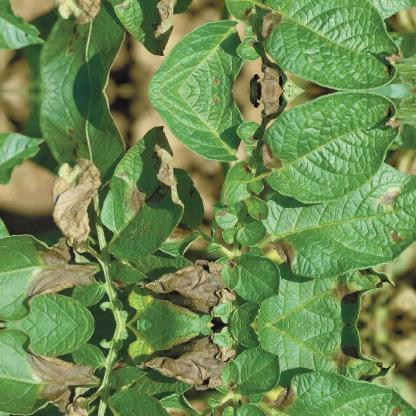Early-Blight: (115, 125, 181, 217), (46, 152, 106, 252), (136, 258, 242, 312), (136, 336, 242, 390), (28, 239, 100, 303), (28, 345, 100, 409), (115, 0, 181, 55), (328, 266, 398, 302), (328, 346, 398, 382), (367, 92, 405, 140), (367, 41, 405, 88), (46, 0, 106, 28), (255, 138, 293, 178), (255, 2, 293, 42), (243, 90, 299, 114), (243, 66, 299, 90), (46, 396, 106, 416), (267, 234, 299, 266), (267, 382, 299, 414), (374, 184, 408, 208), (378, 228, 410, 244), (377, 403, 410, 416)
